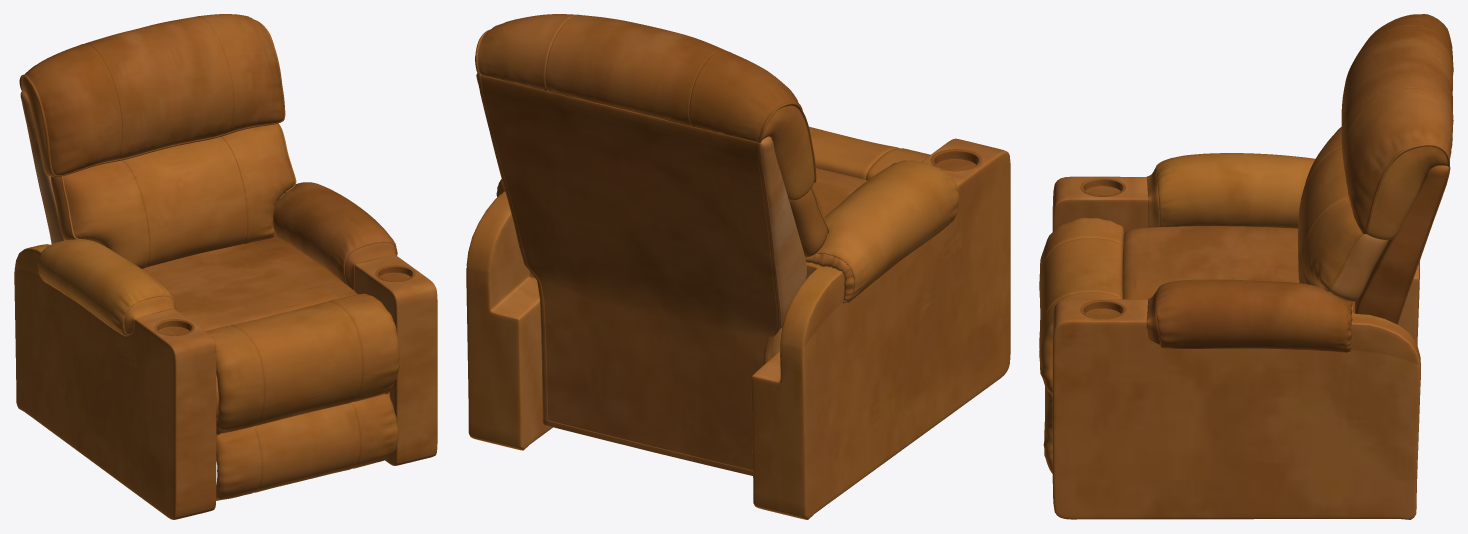
File: sofac.glb
3 views of the same model, side by side, from view 1: azimuth 30°, elevation 25°; view 2: azimuth 150°, elevation 25°; view 3: azimuth 270°, elevation 25° (orthographic). The views are drawn at different scales.
Visible parts, largest first — view 1: Single_Seater_Reclining_Sofaobjcleanermaterialmergergles; view 2: Single_Seater_Reclining_Sofaobjcleanermaterialmergergles; view 3: Single_Seater_Reclining_Sofaobjcleanermaterialmergergles.
Boxes of the visible parts, x1,y1,x2,y2 form: Single_Seater_Reclining_Sofaobjcleanermaterialmergergles: (14, 14, 437, 519); Single_Seater_Reclining_Sofaobjcleanermaterialmergergles: (466, 14, 1010, 519); Single_Seater_Reclining_Sofaobjcleanermaterialmergergles: (1039, 14, 1453, 519).
Size of the model in its own units: 2.11 by 2.46 by 2.34.
Materials: 1 (1 with a texture image).
